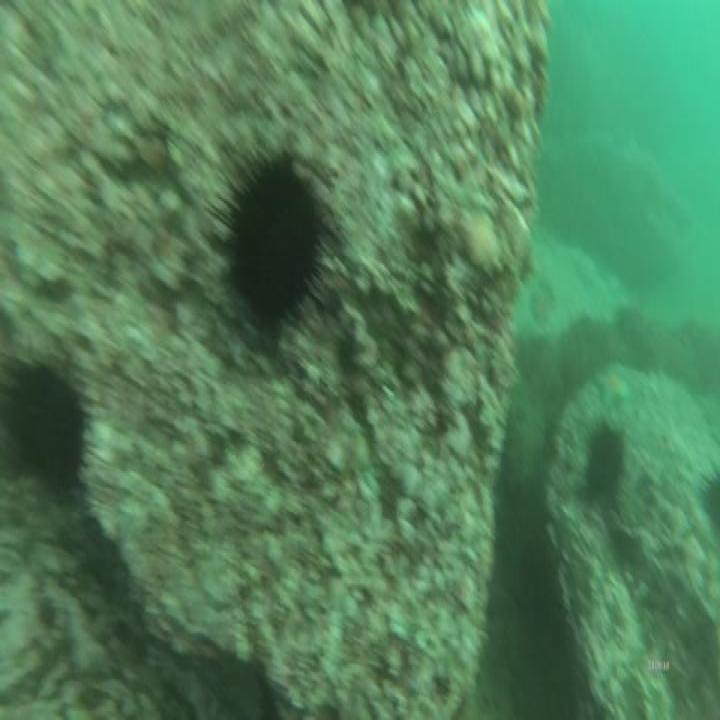echinus: (219, 153, 325, 341), (0, 359, 88, 500), (584, 414, 626, 505)
starfish: (594, 359, 631, 411)
